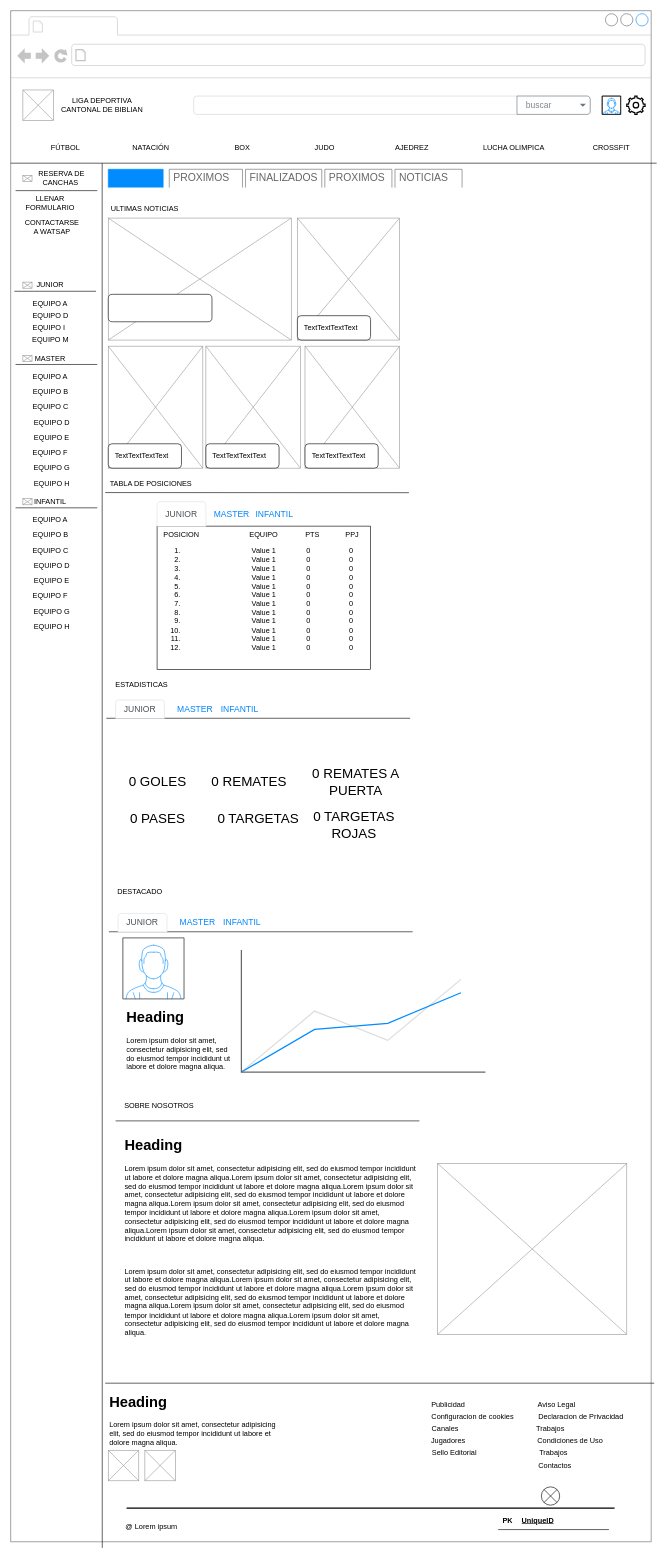
This 668x1560 diagram has some shape labels left out. Here are the shapes that lost their labels. From the top down, the centre of each, then its label:
pixel 80 25: LIGA DEP...
pixel 165 55: https://www.ligadeportivacantonaldebiblian.com
pixel 135 178: INICIO
pixel 160 308: TextTextTextTextTextText
